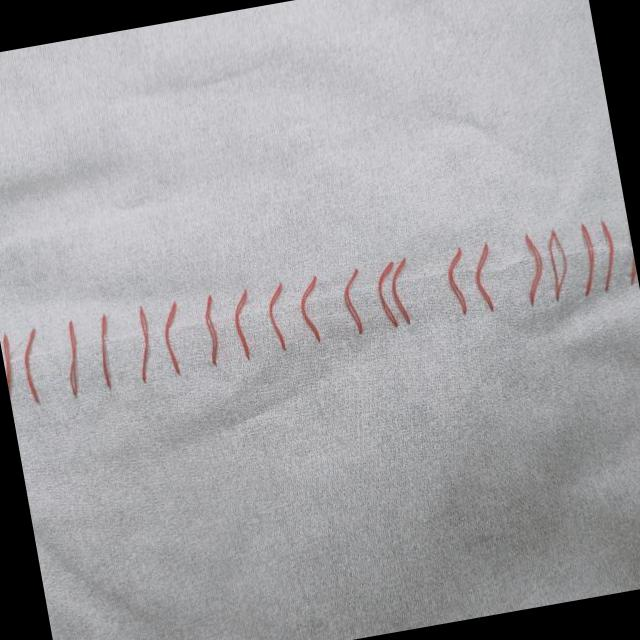seam: (0, 205, 640, 418)
